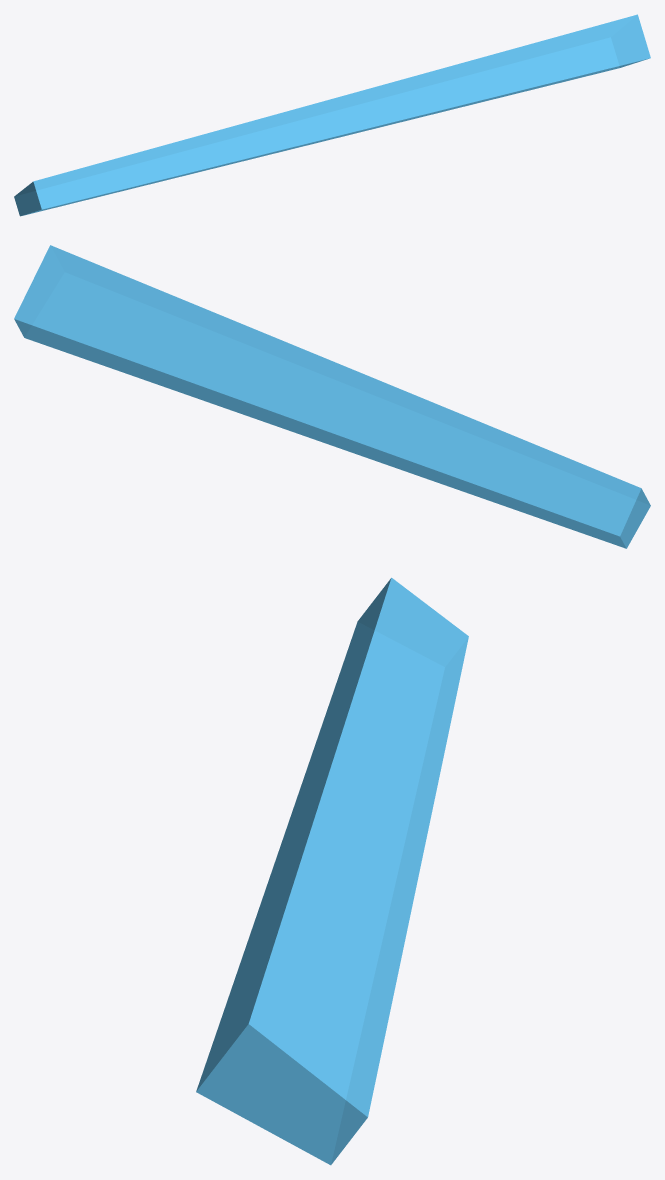
File: Event_421115418_HErechit_123.fbx
3 views of the same model, one above another, from view 1: azimuth 30°, elevation 25°; view 2: azimuth 150°, elevation 25°; view 3: azimuth 270°, elevation 25° (orthographic). The views are drawn at different scales.
Parts seen in each view (by area): view 1: Model; view 2: Model; view 3: Model.
Boxes of the visible parts, left/top/right/bottom form: Model: left=14, top=14, right=650, bottom=216; Model: left=14, top=245, right=650, bottom=548; Model: left=196, top=577, right=468, bottom=1165.
Size of the model in its own units: 6.11 by 1.01 by 1.26.
